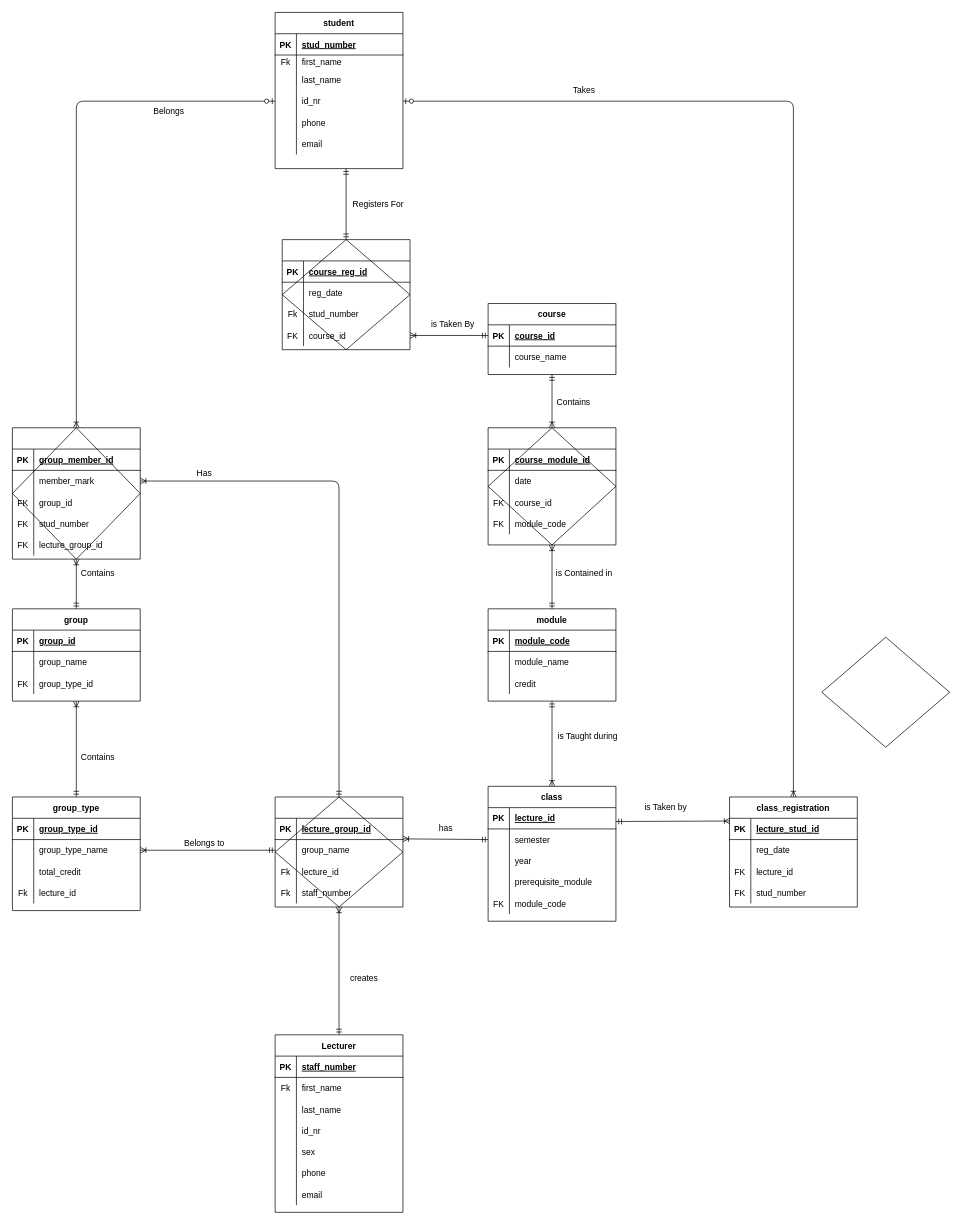
This 962x1225 diagram has some shape labels left out. The centre of each missing label's shape, as x and y in pixels:
"course_module" goes at point (551, 486).
"group_member" goes at point (76, 493).
"lecture_group" goes at point (338, 851).
"student_course_regsitration" goes at point (346, 294).
